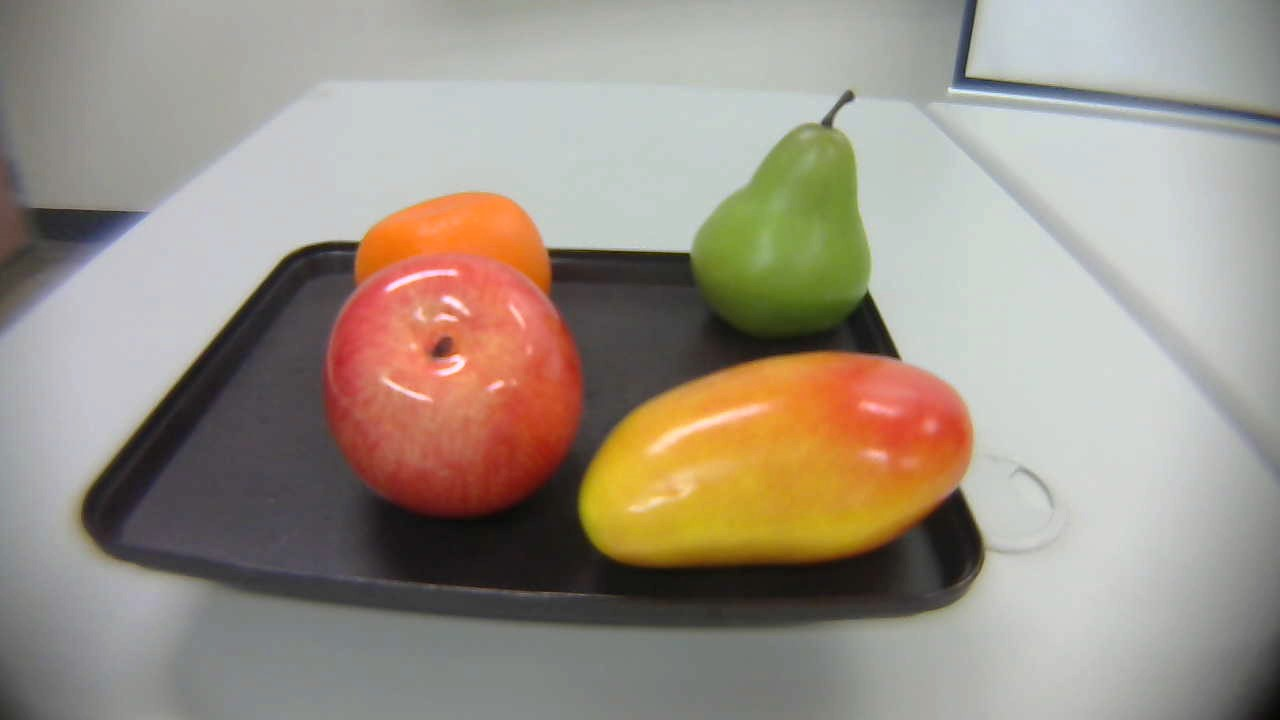green pear: (688, 91, 880, 336)
orange: (338, 191, 577, 324)
red apple: (318, 256, 587, 523)
red mango: (577, 348, 978, 581)
